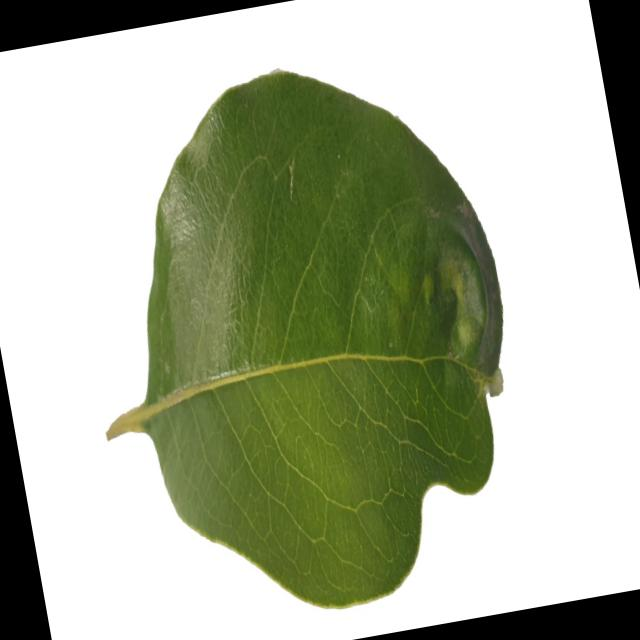Medicinal-Sandalwood: (45, 35, 550, 640)
